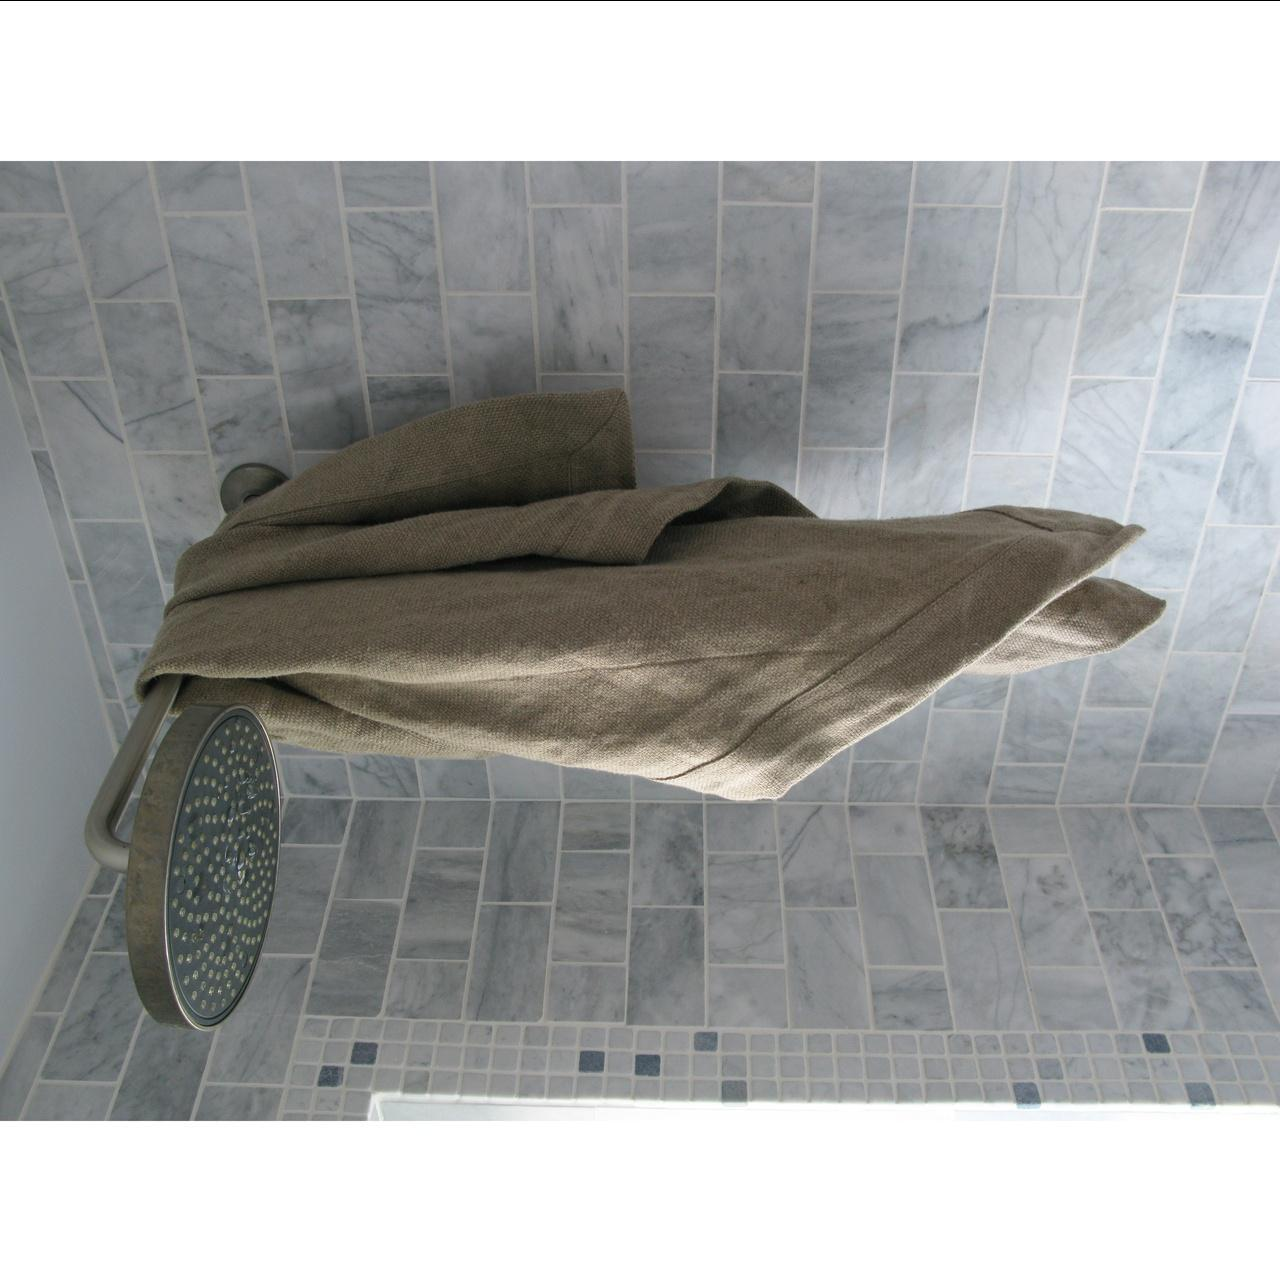towel: (134, 400, 1186, 750)
